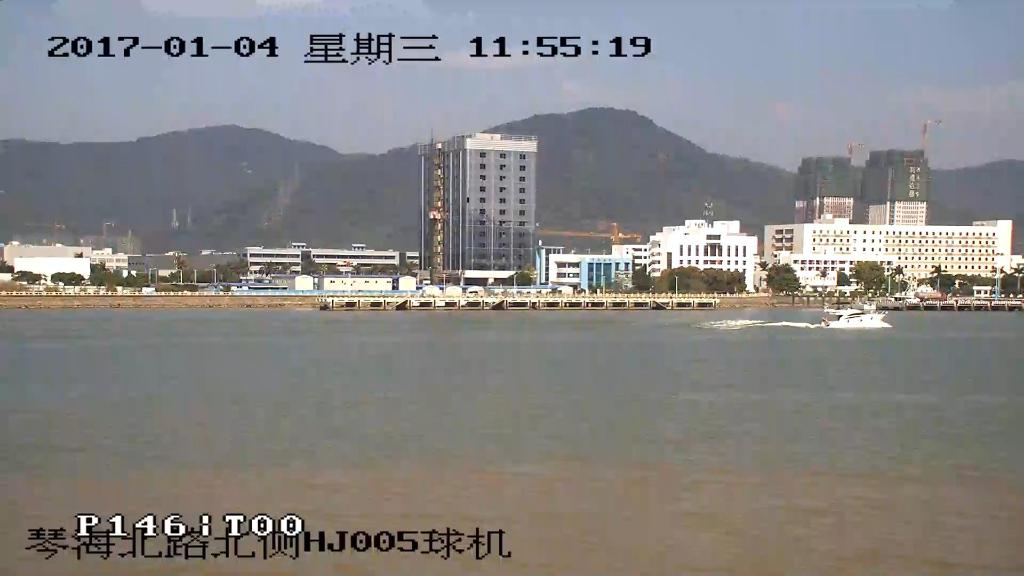PassengerShip: (808, 301, 896, 336)
